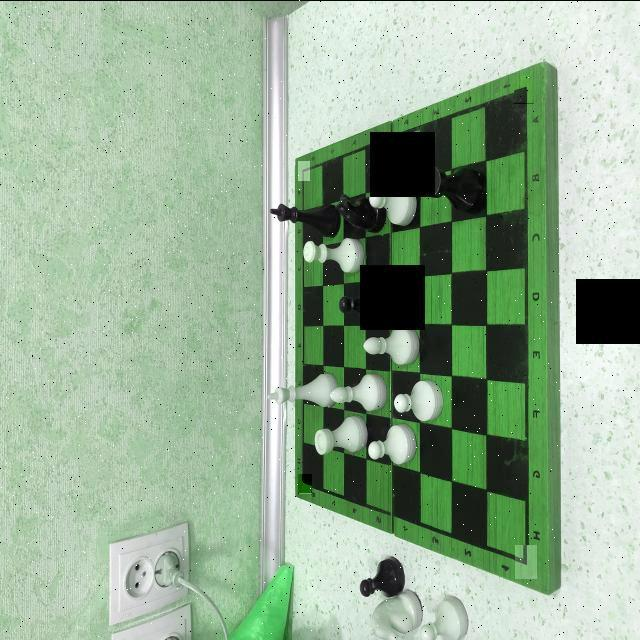chess-table-corners: (516, 544, 538, 578), (514, 75, 534, 104), (298, 474, 312, 494), (298, 160, 310, 180)
